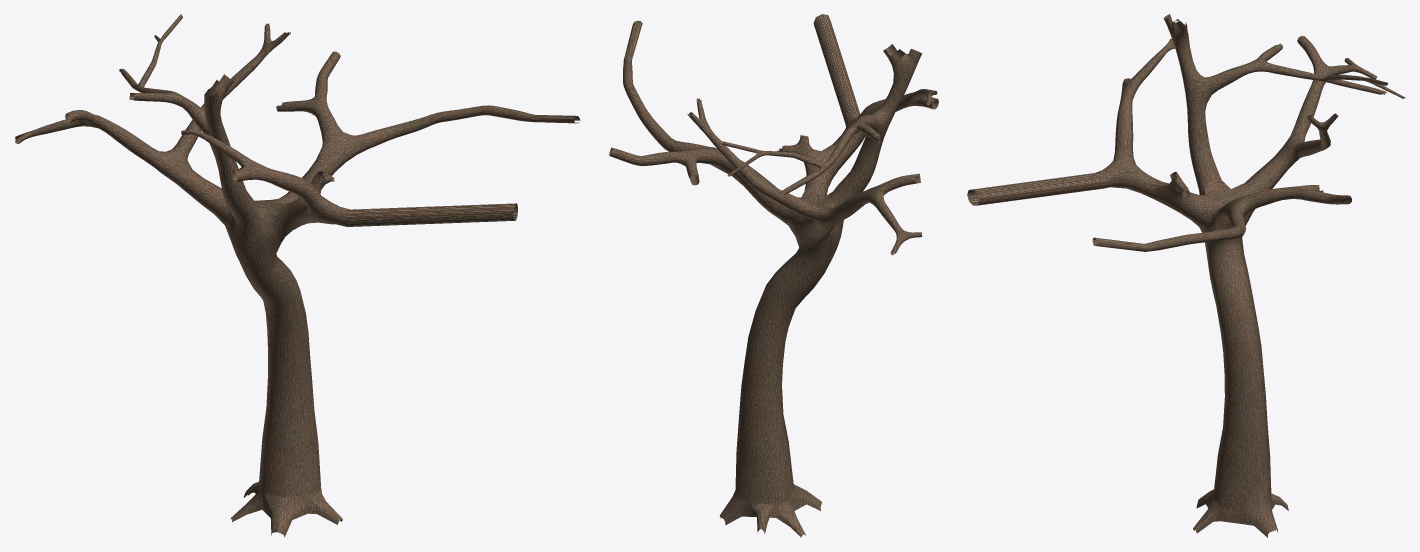
File: Arvore.fbx
The picture shows the model from 3 angles, left to right: view 1: azimuth 30°, elevation 25°; view 2: azimuth 150°, elevation 25°; view 3: azimuth 270°, elevation 25°; orthographic projection. The views are drawn at different scales.
Visible parts, largest first — view 1: Tree Base Final.001; view 2: Tree Base Final.001; view 3: Tree Base Final.001.
Boxes of the visible parts, x1,y1,x2,y2 form: Tree Base Final.001: (15,14,580,537); Tree Base Final.001: (609,14,938,537); Tree Base Final.001: (967,14,1405,537).
Size of what is drawn, in the model's own units: 3177 by 3417 by 2961.
